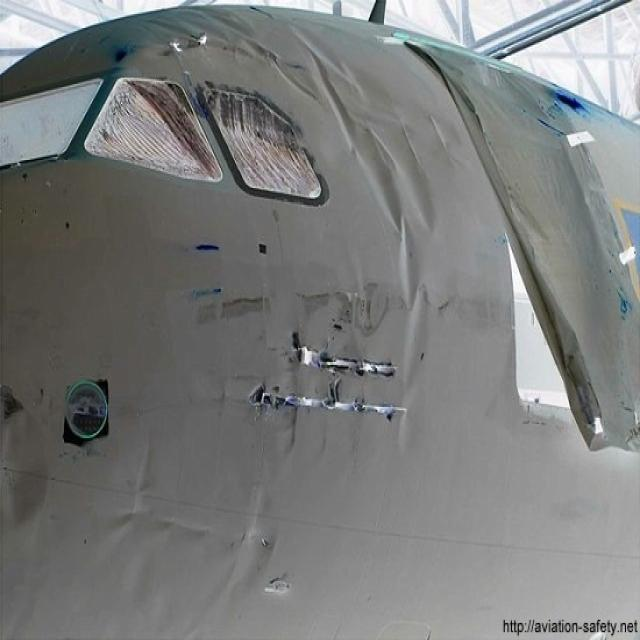crack: (234, 326, 422, 427)
